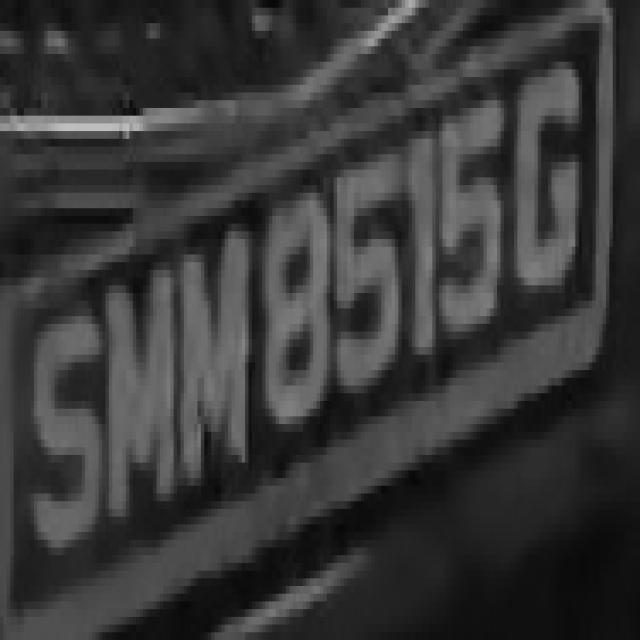1: (395, 93, 442, 393)
5: (432, 85, 514, 362), (334, 131, 402, 416)
8: (255, 170, 337, 440)
G: (514, 39, 586, 316)
M: (95, 239, 177, 555), (177, 216, 259, 524)
S: (24, 301, 102, 547)
